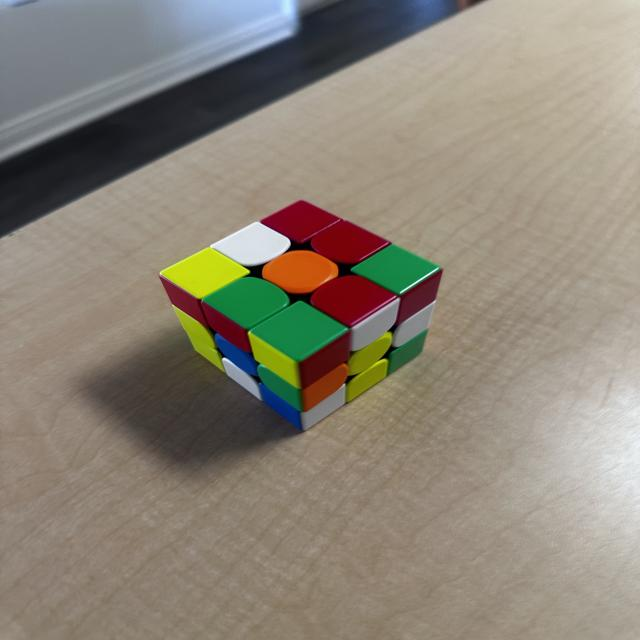sticker: (248, 301, 350, 390), (157, 247, 245, 329), (308, 275, 398, 352), (202, 278, 290, 355), (351, 244, 442, 318), (258, 363, 348, 426), (259, 198, 342, 246), (210, 220, 293, 268), (286, 330, 351, 391), (309, 220, 392, 266), (261, 249, 339, 295), (174, 305, 222, 372), (202, 300, 256, 356), (248, 334, 301, 390), (394, 271, 442, 326), (300, 363, 350, 412), (298, 384, 346, 431), (391, 298, 435, 349), (160, 279, 203, 329), (345, 332, 392, 377), (215, 332, 260, 379), (385, 329, 428, 377), (344, 358, 388, 403), (258, 366, 301, 412), (260, 383, 302, 430), (222, 356, 262, 401), (171, 304, 208, 346), (196, 341, 225, 373)
